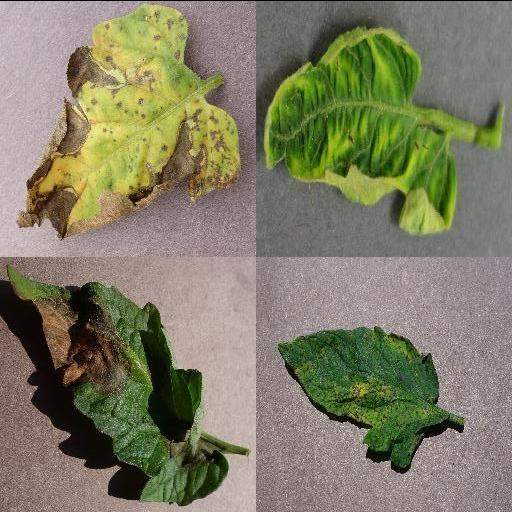Late Blight: (8, 264, 230, 506)
Septoria: (18, 1, 242, 237), (277, 324, 441, 468)
Yellow Leaf Curl Virus: (260, 25, 458, 234)
